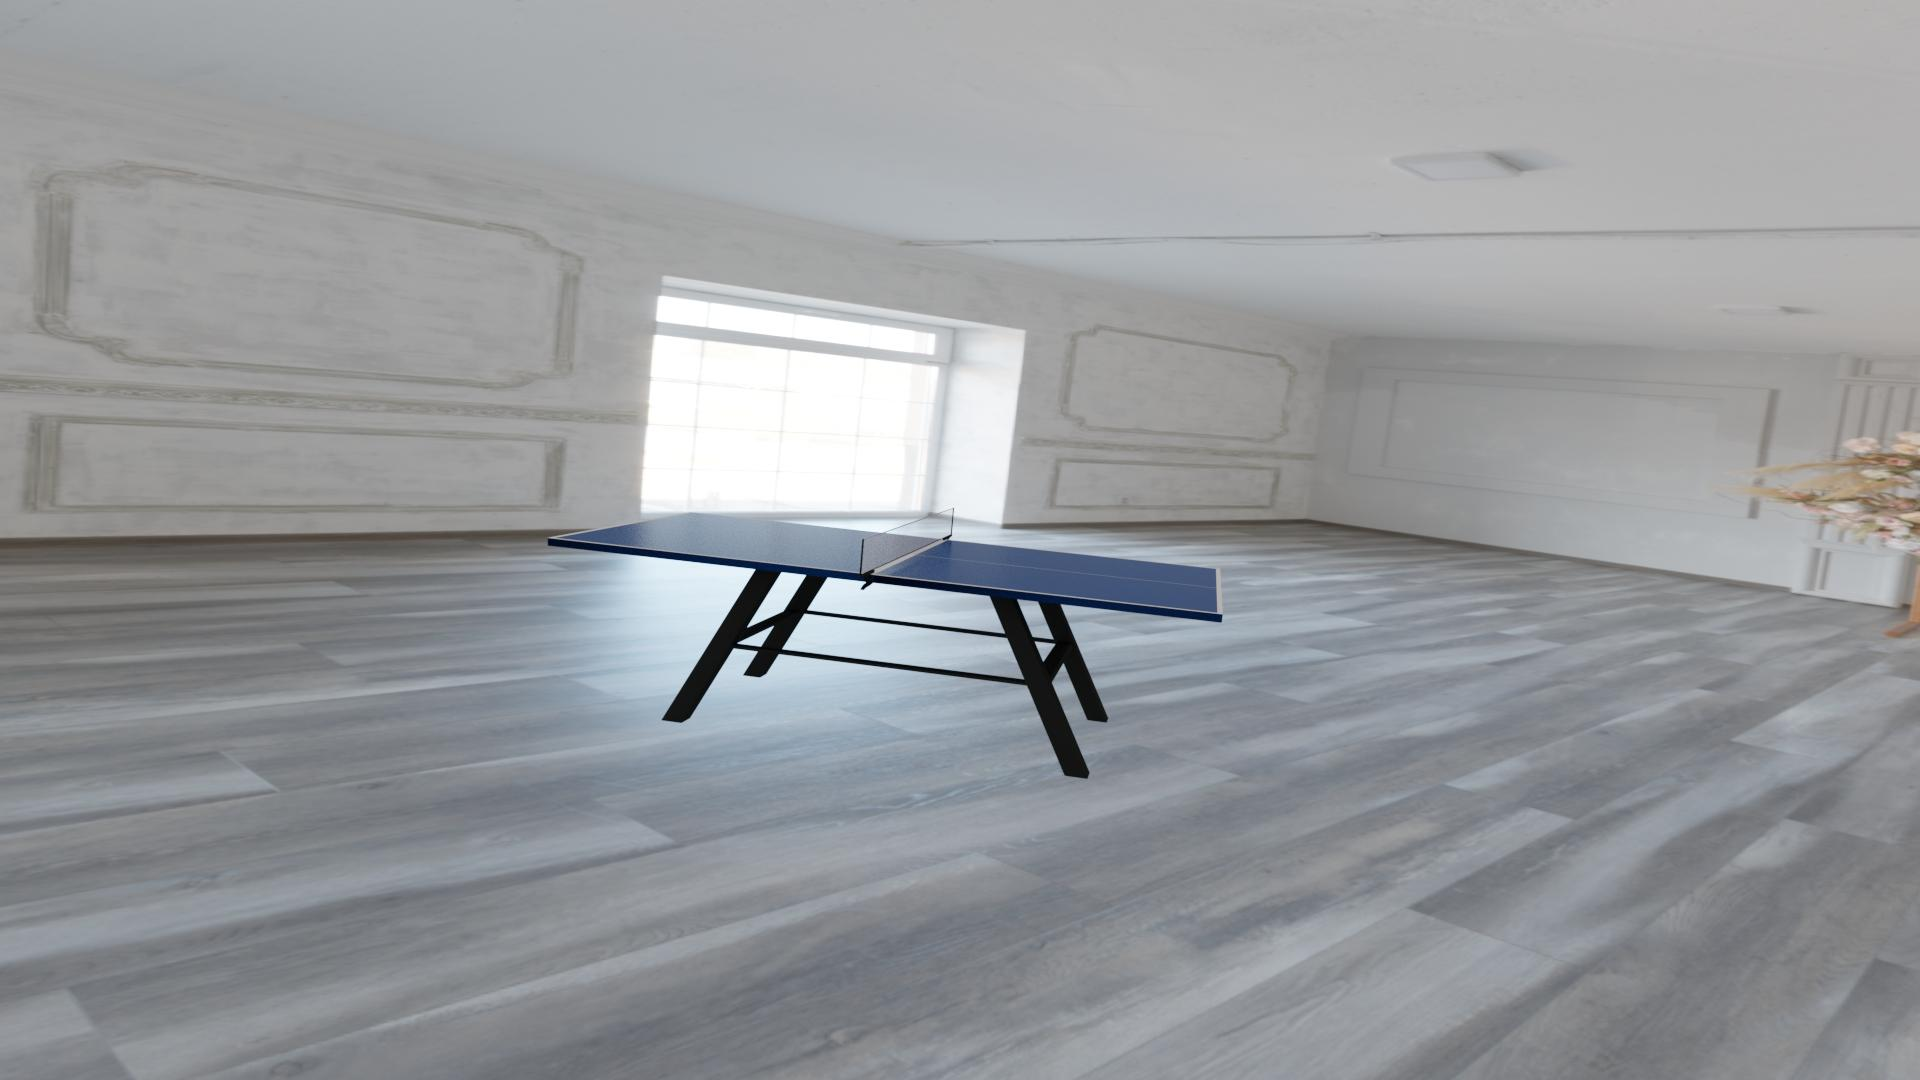table: (554, 513, 1217, 613)
